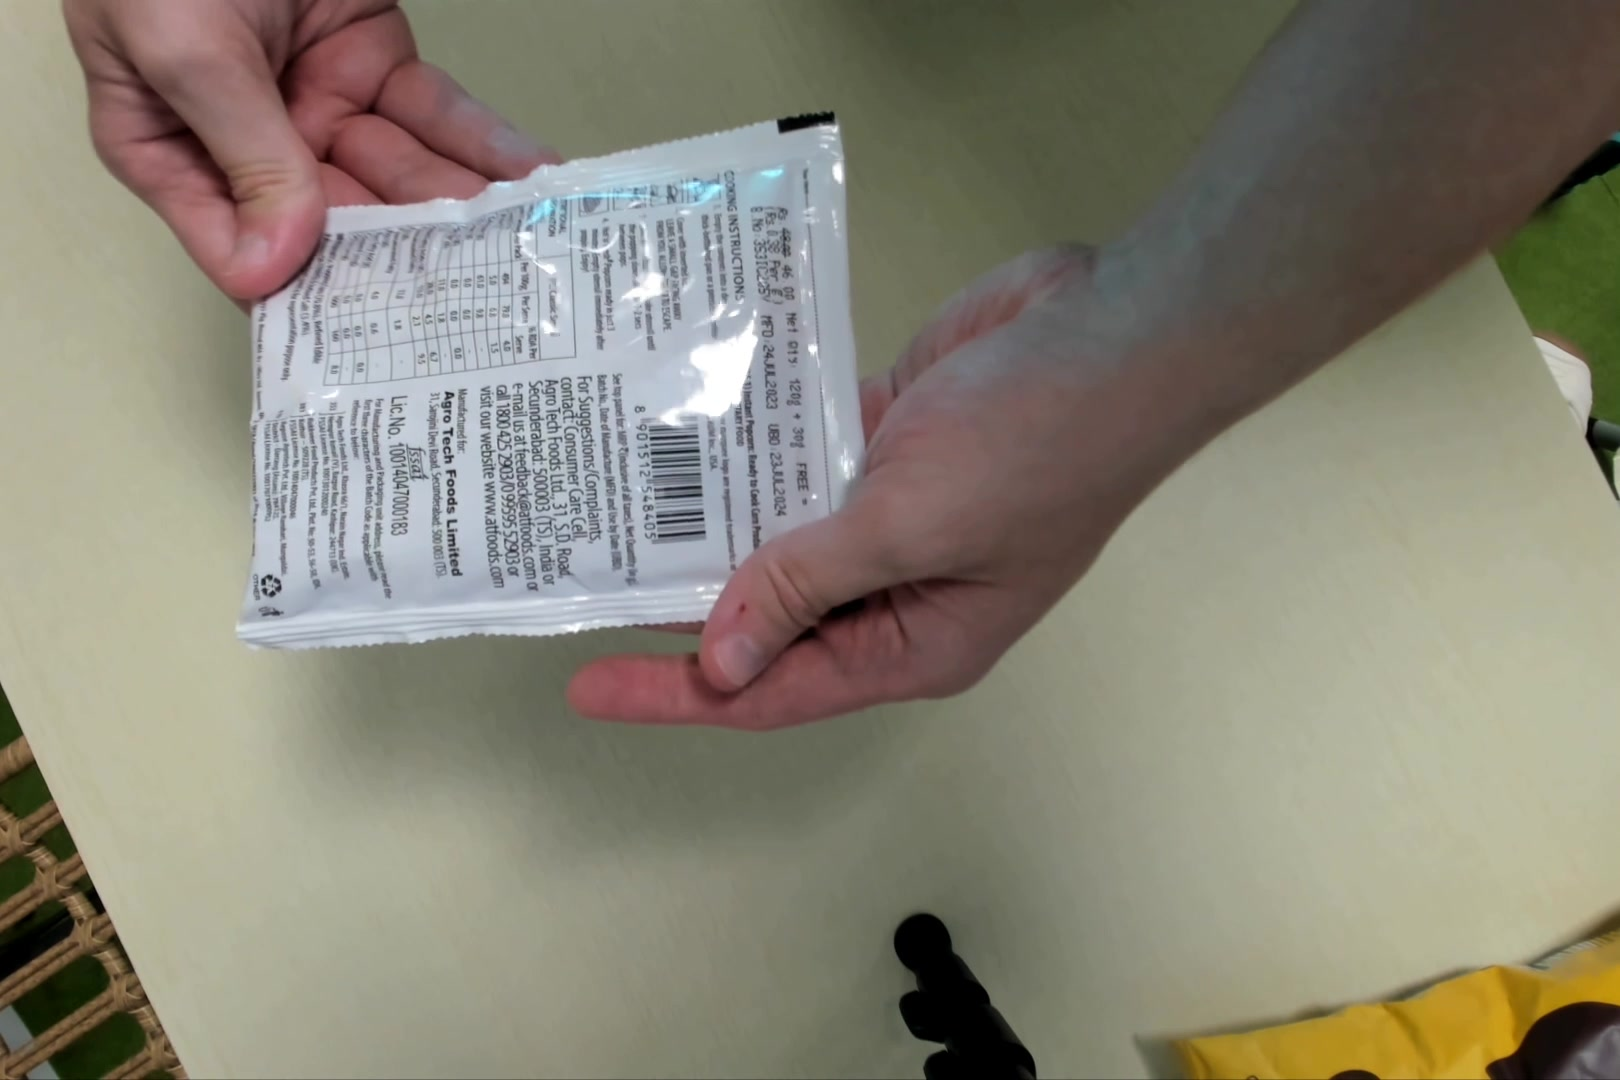PotatoChipsKeropok_100-199g_NonHalal_NonHealthy: (231, 110, 864, 663)
